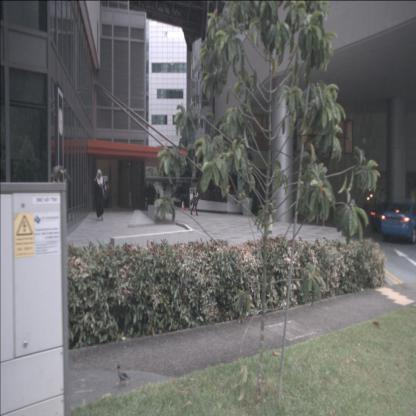human-pedestrian-adult: (94, 169, 106, 222), (190, 186, 198, 216), (105, 181, 110, 209), (156, 190, 160, 206)
movable_object-trafficcone: (181, 200, 184, 210), (182, 201, 185, 210), (191, 203, 194, 211)
vehicle-car: (380, 200, 416, 244), (371, 201, 406, 234)
